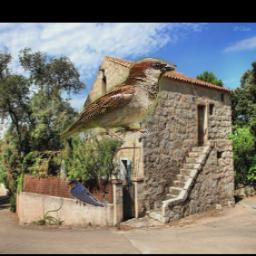Sparrow: (61, 58, 176, 142)
Swallow: (67, 178, 110, 208)
